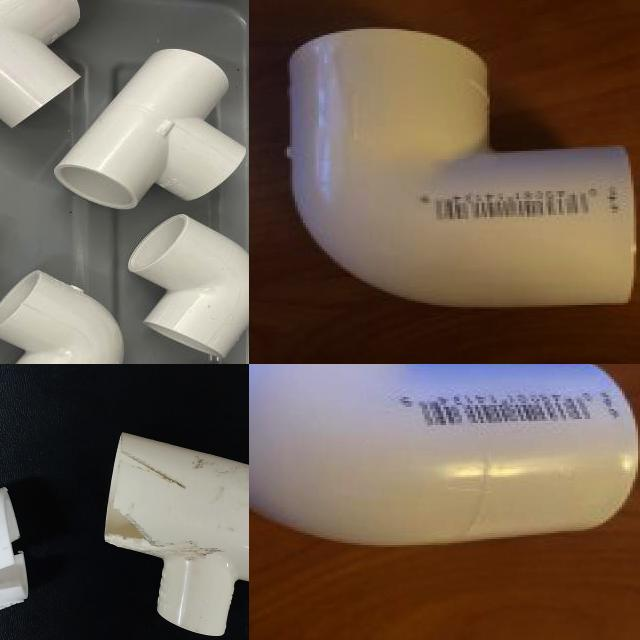Defective: (249, 364, 640, 548), (0, 492, 44, 601)
L Joint: (286, 28, 638, 311), (127, 215, 249, 357), (0, 271, 123, 364)
T Joint: (53, 48, 247, 212)
